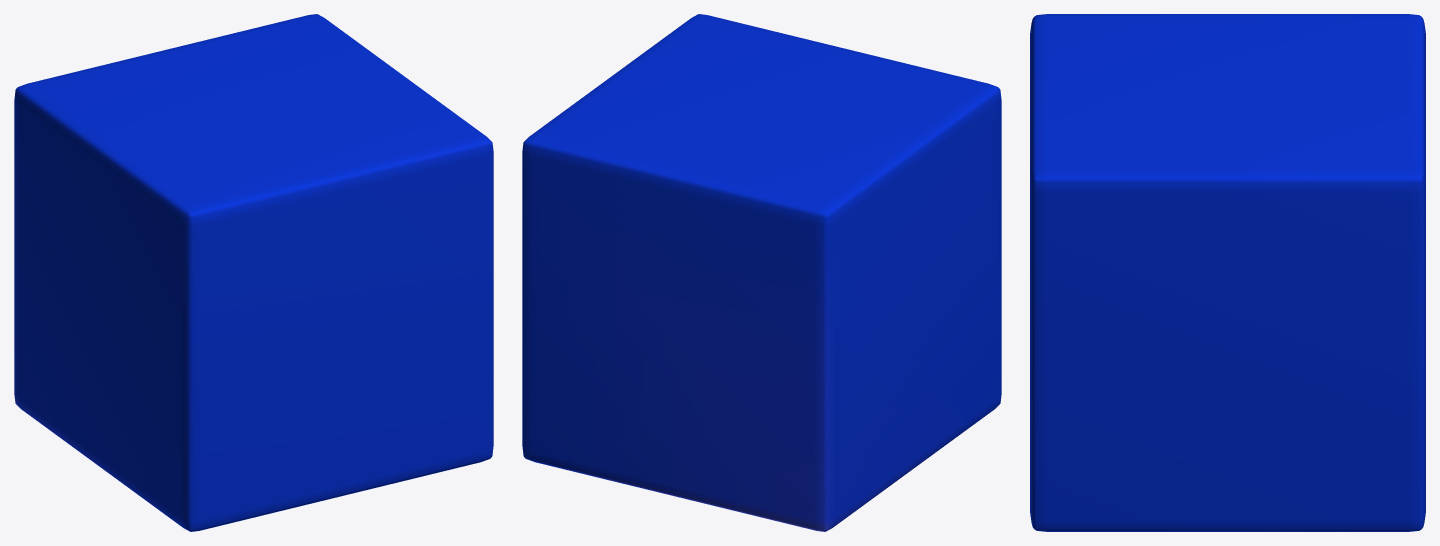
File: SM_Wood.fbx
3 renders of one model, left to right at view 1: azimuth 30°, elevation 25°; view 2: azimuth 150°, elevation 25°; view 3: azimuth 270°, elevation 25°, orthographic. The views are drawn at different scales.
Visible parts, largest first — view 1: Wood; view 2: Wood; view 3: Wood.
Part boxes in pixels (x1,y1,x2,y2): Wood: (14, 14, 493, 531); Wood: (522, 14, 1001, 531); Wood: (1030, 14, 1425, 531).
Size of the model in its own units: 100 by 100 by 100.
